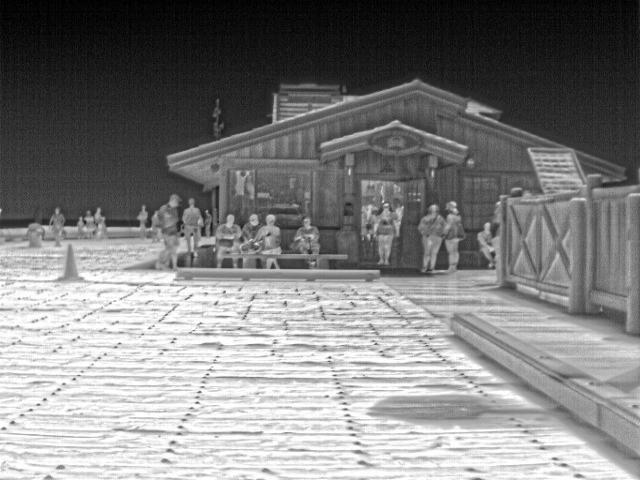person: (149, 192, 184, 268), (415, 204, 446, 276), (441, 198, 465, 274), (179, 197, 207, 261), (369, 200, 396, 264), (212, 212, 240, 254), (255, 214, 281, 256), (293, 218, 321, 253), (476, 222, 498, 266), (49, 206, 68, 248), (239, 213, 258, 249), (137, 206, 152, 236)
